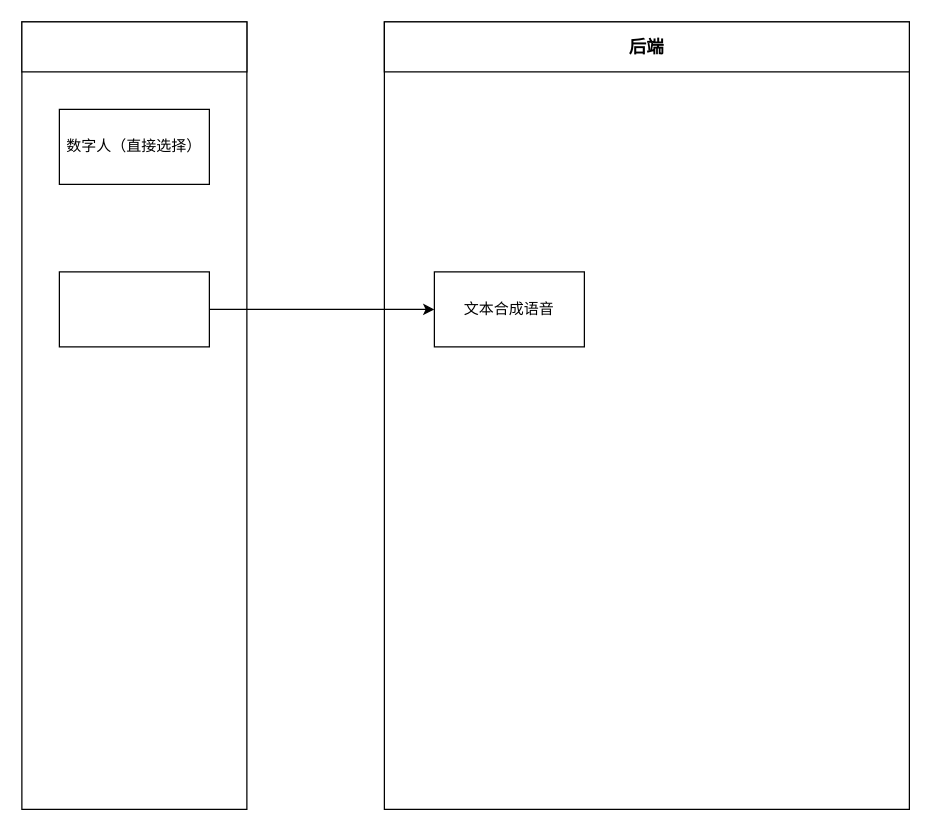
Some shapes in this 931 by 831 pixel diagram are drawn without their labels. The centre of each missing label's shape, as x and y in pixels:
"前端" belongs at point 134,46.
"脚本（音量、音色）" belongs at point 133,309.
